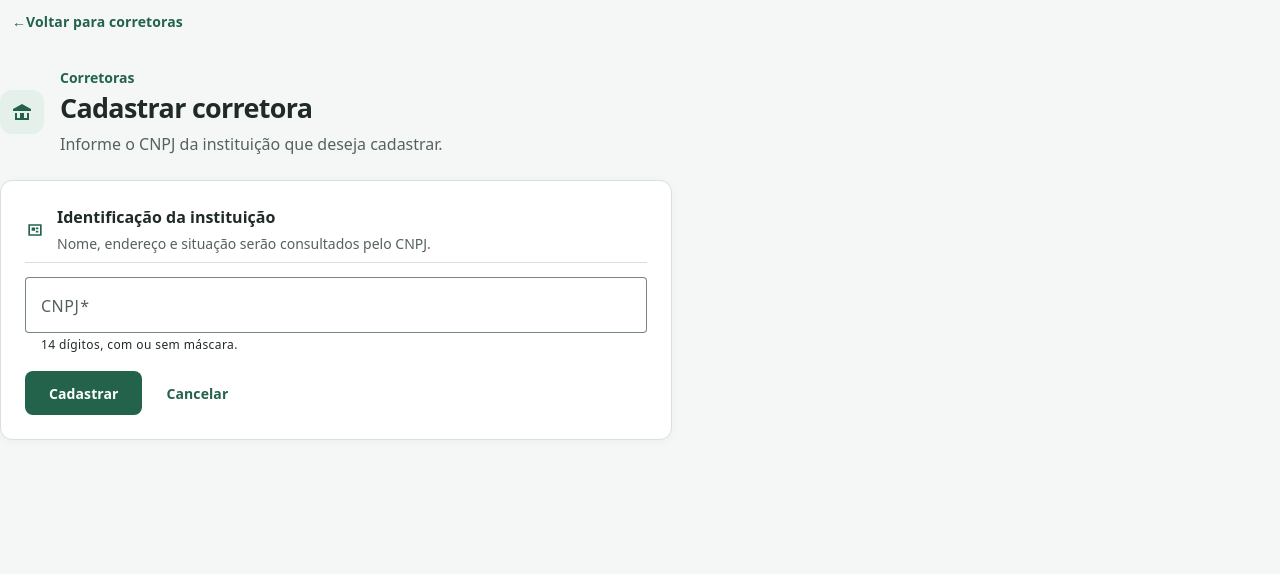
it: CorretoraCreatePageComponent › não abre confirmação para outro 409
The image size is (1280, 574).
Type "11.222.333/0001-81" into the field labelled "CNPJ" at (336, 305), box x1=41 y1=293 x2=631 y2=317
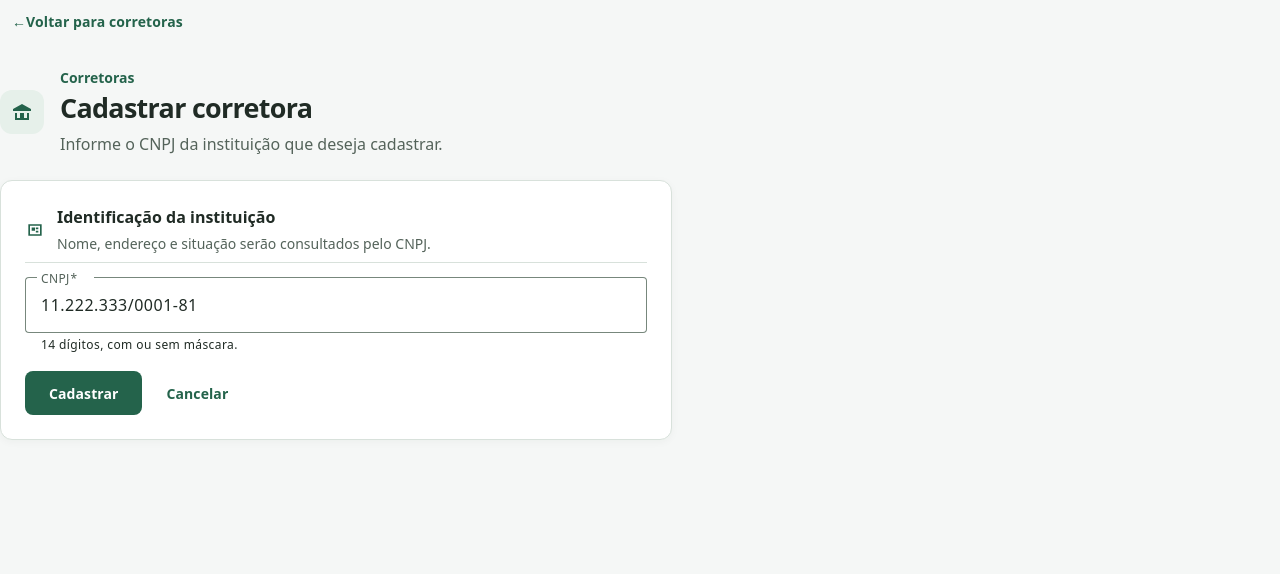
Submit the form, box x1=0 y1=180 x2=672 y2=440
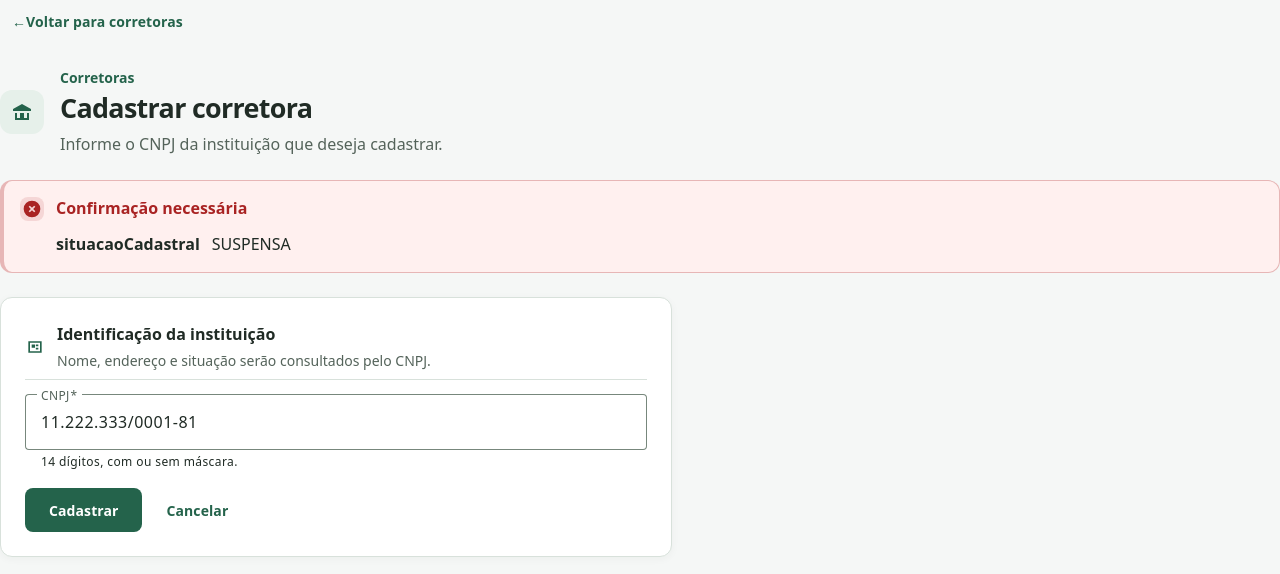
Expected: the text "Confirmação necessária" is shown, x1=56 y1=197 x2=247 y2=219
